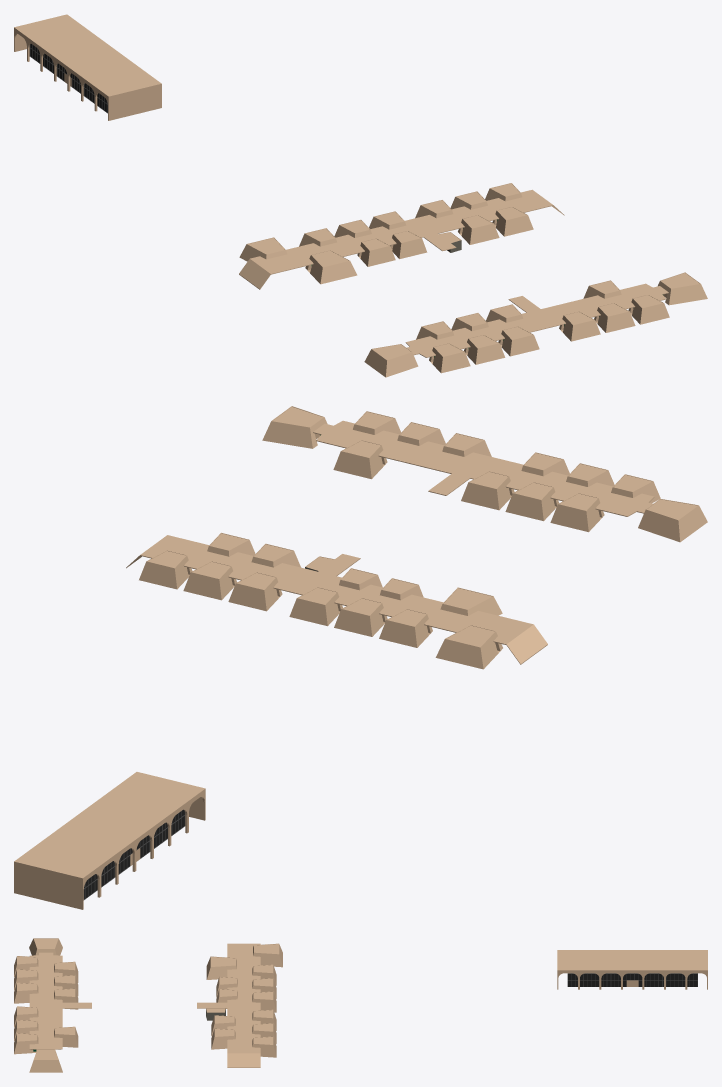
The model's file is amphis to rectorat.gltf.
3 renders of one model, top to bottom at view 1: azimuth 30°, elevation 25°; view 2: azimuth 150°, elevation 25°; view 3: azimuth 270°, elevation 25°, orthographic. The views are drawn at different scales.
Visible parts, largest first — view 1: amphiA-L, amphiM-X, rectorat; view 2: amphiA-L, amphiM-X, rectorat; view 3: amphiA-L, amphiM-X, rectorat.
Part boxes in pixels (x1,y1,x2,y2): amphiA-L: (239,183,564,289); amphiM-X: (364,272,707,377); rectorat: (14,14,161,120); amphiA-L: (126,532,547,669); amphiM-X: (262,406,707,542); rectorat: (14,772,205,909); amphiA-L: (197,943,282,1067); amphiM-X: (14,938,91,1072); rectorat: (557,950,707,989).
Bounding box in the file's own units: 248 × 20.12 × 578.
Materials: 1 (1 with a texture image).
